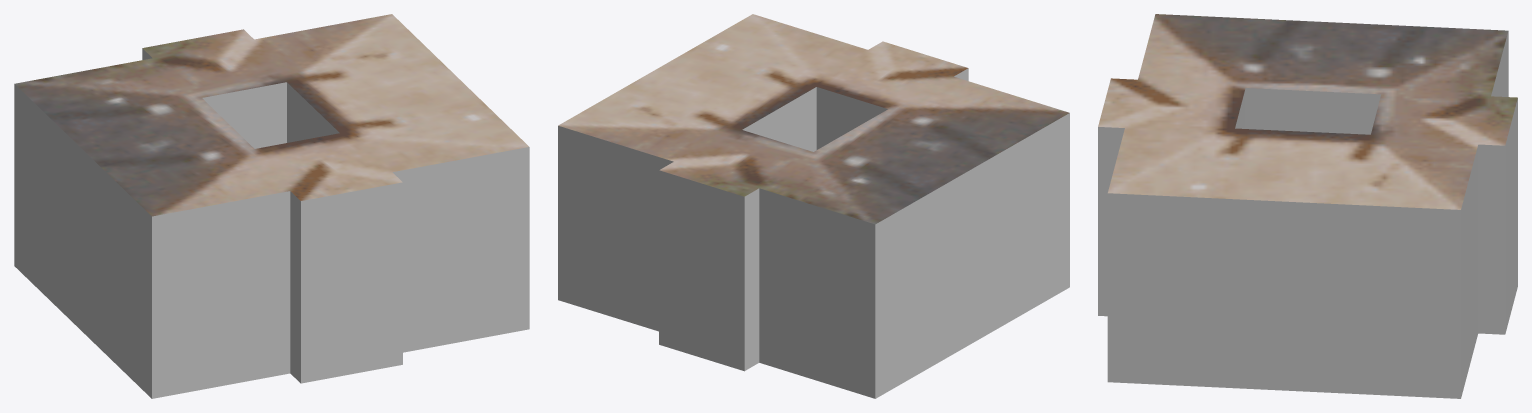
File: DEBW_0010007Txan.gltf
3 renders of one model, left to right at view 1: azimuth 30°, elevation 25°; view 2: azimuth 150°, elevation 25°; view 3: azimuth 270°, elevation 25°, orthographic. The views are drawn at different scales.
Parts seen in each view (by area): view 1: Z_UP; view 2: Z_UP; view 3: Z_UP.
Boxes of the visible parts, x1,y1,x2,y2 form: Z_UP: [14, 14, 529, 398]; Z_UP: [558, 14, 1069, 398]; Z_UP: [1098, 14, 1517, 398].
Size of the model in its own units: 20.11 by 9.04 by 18.21.
Materials: 2 (1 with a texture image).
